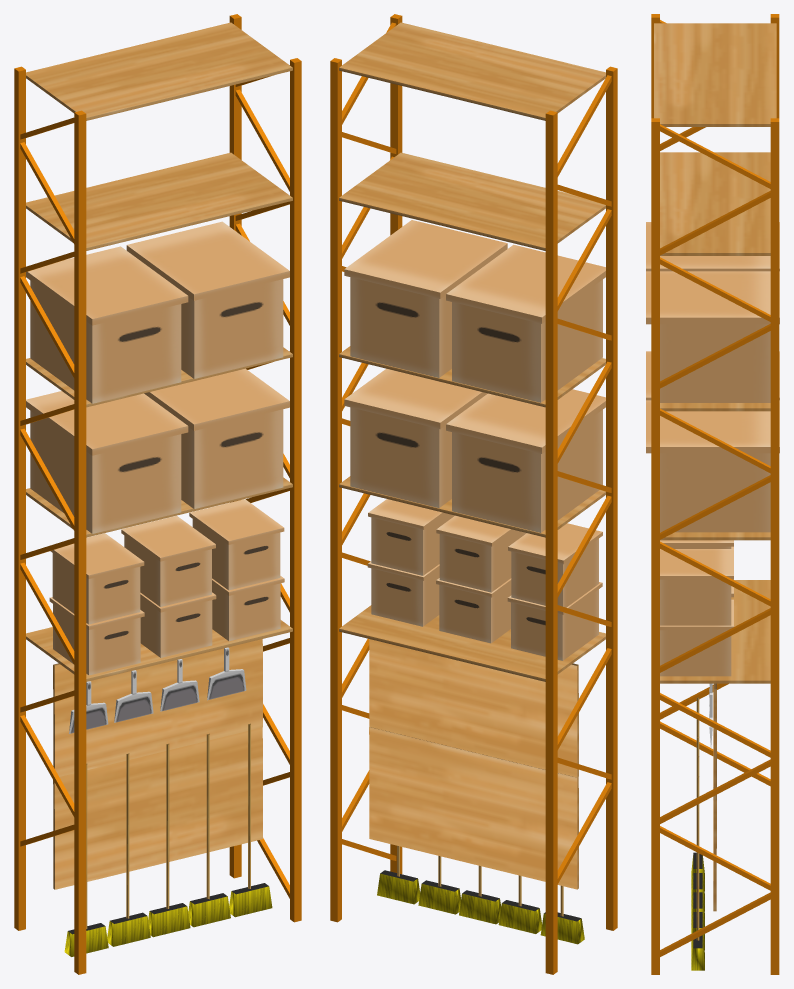
File: Broom_Rack.fbx
3 views of the same model, side by side, from view 1: azimuth 30°, elevation 25°; view 2: azimuth 150°, elevation 25°; view 3: azimuth 270°, elevation 25° (orthographic).
Visible parts, largest first — view 1: Broom_Rack; view 2: Broom_Rack; view 3: Broom_Rack.
Part boxes in pixels (bbox=[...]): Broom_Rack: bbox=[14, 14, 301, 974]; Broom_Rack: bbox=[330, 14, 617, 974]; Broom_Rack: bbox=[646, 14, 779, 974].
Bounding box in the file's own units: 2 × 7.37 × 1.05.
